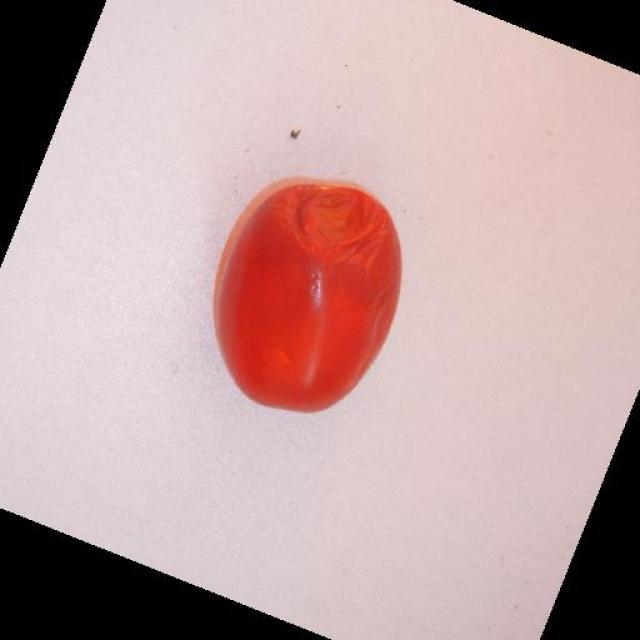Rotten Tomato: (199, 174, 408, 411)
